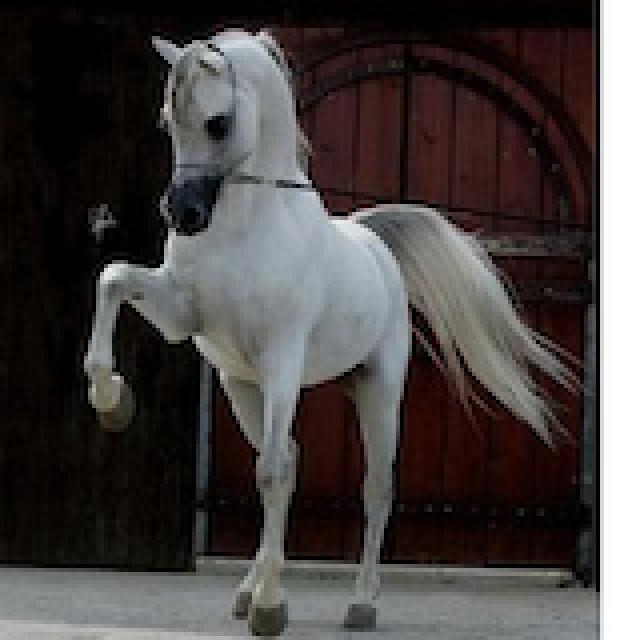Horse: (72, 20, 584, 636)
